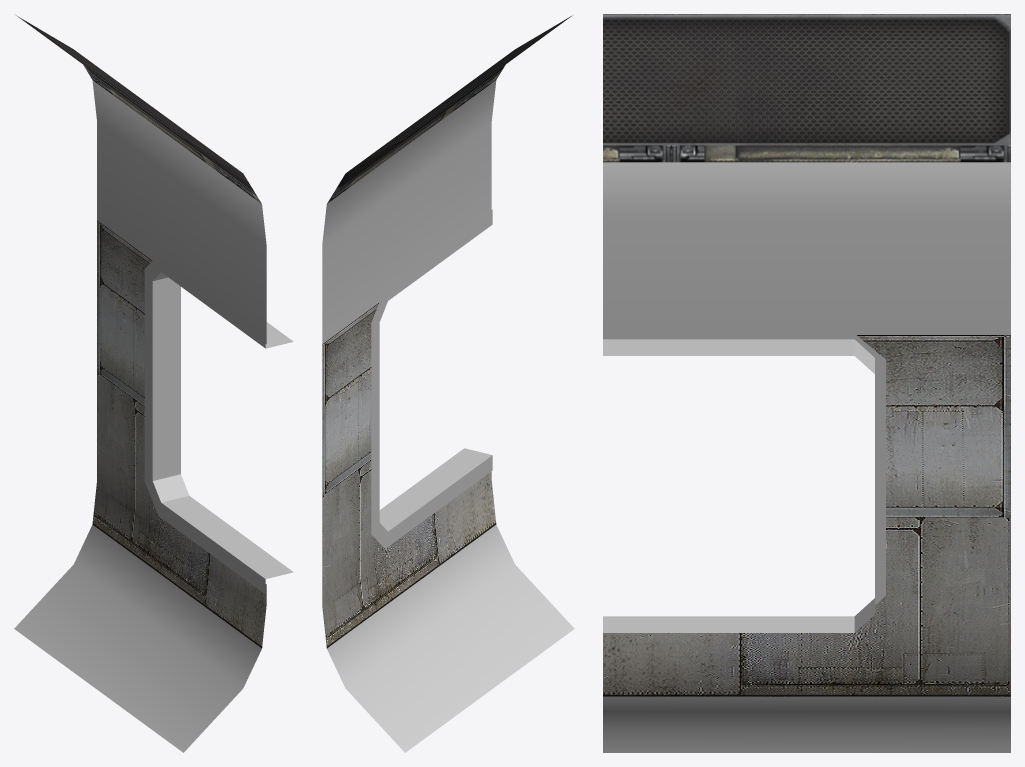
Rendered from Wall_L_Mid4mts_08.fbx.
3 renders of one model, left to right at view 1: azimuth 30°, elevation 25°; view 2: azimuth 150°, elevation 25°; view 3: azimuth 270°, elevation 25°, orthographic. The views are drawn at different scales.
Parts seen in each view (by area): view 1: Wall_L_Mid4mts_08; view 2: Wall_L_Mid4mts_08; view 3: Wall_L_Mid4mts_08.
Boxes of the visible parts, bbox=[...] form: Wall_L_Mid4mts_08: bbox=[14, 15, 293, 752]; Wall_L_Mid4mts_08: bbox=[322, 15, 574, 752]; Wall_L_Mid4mts_08: bbox=[603, 14, 1010, 752].
Bounding box in the file's own units: 75.19 × 400 × 200.
